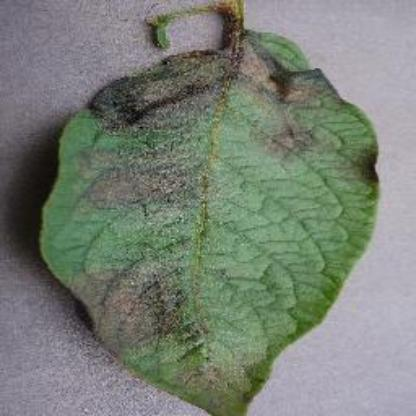Late-Blight: (25, 30, 393, 416)
